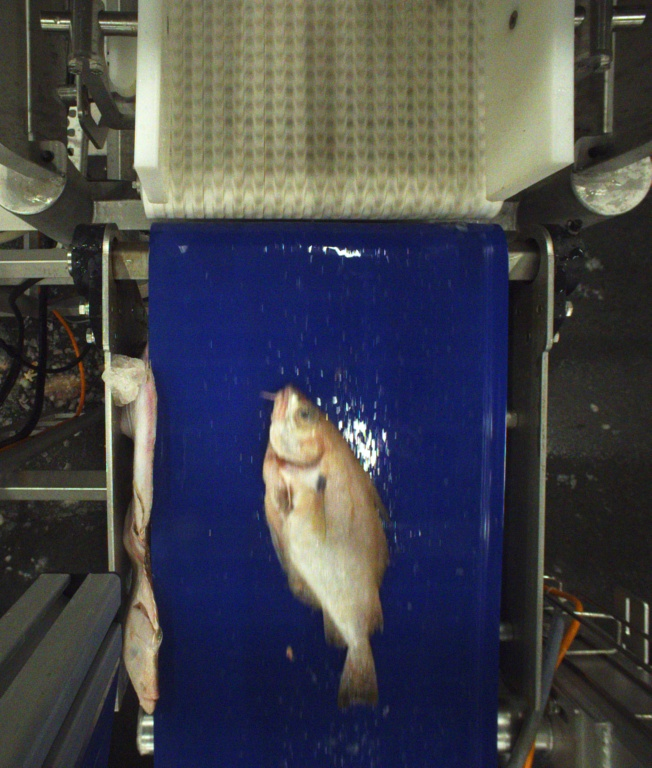BIB: (259, 386, 391, 709)
